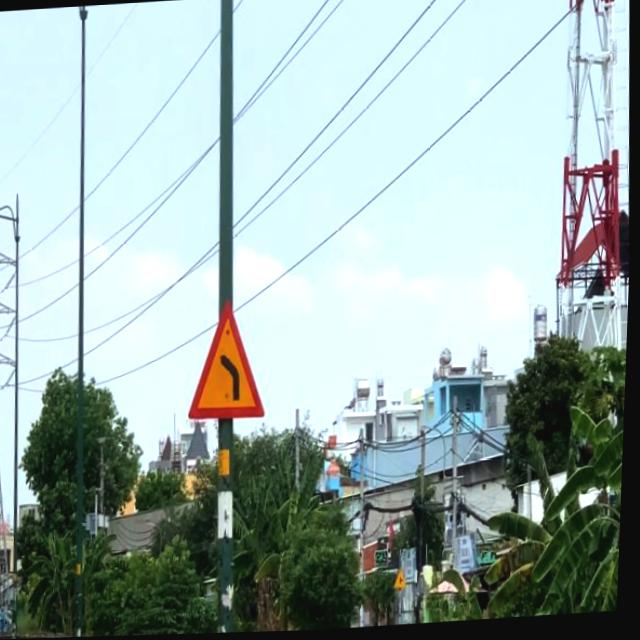cho ngoat nguy hiem vong ben trai: (187, 297, 271, 424)
